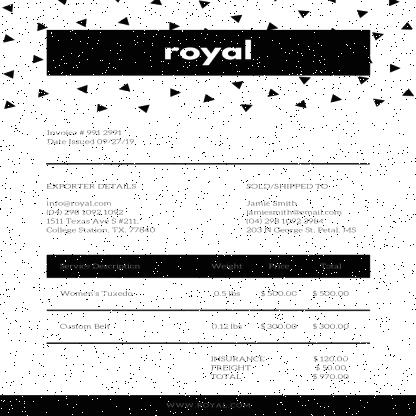Paragraph: (241, 178, 361, 236), (41, 179, 159, 236), (204, 353, 355, 382), (156, 37, 260, 69), (38, 126, 140, 148), (162, 399, 258, 412)
Table: (47, 255, 370, 343)
